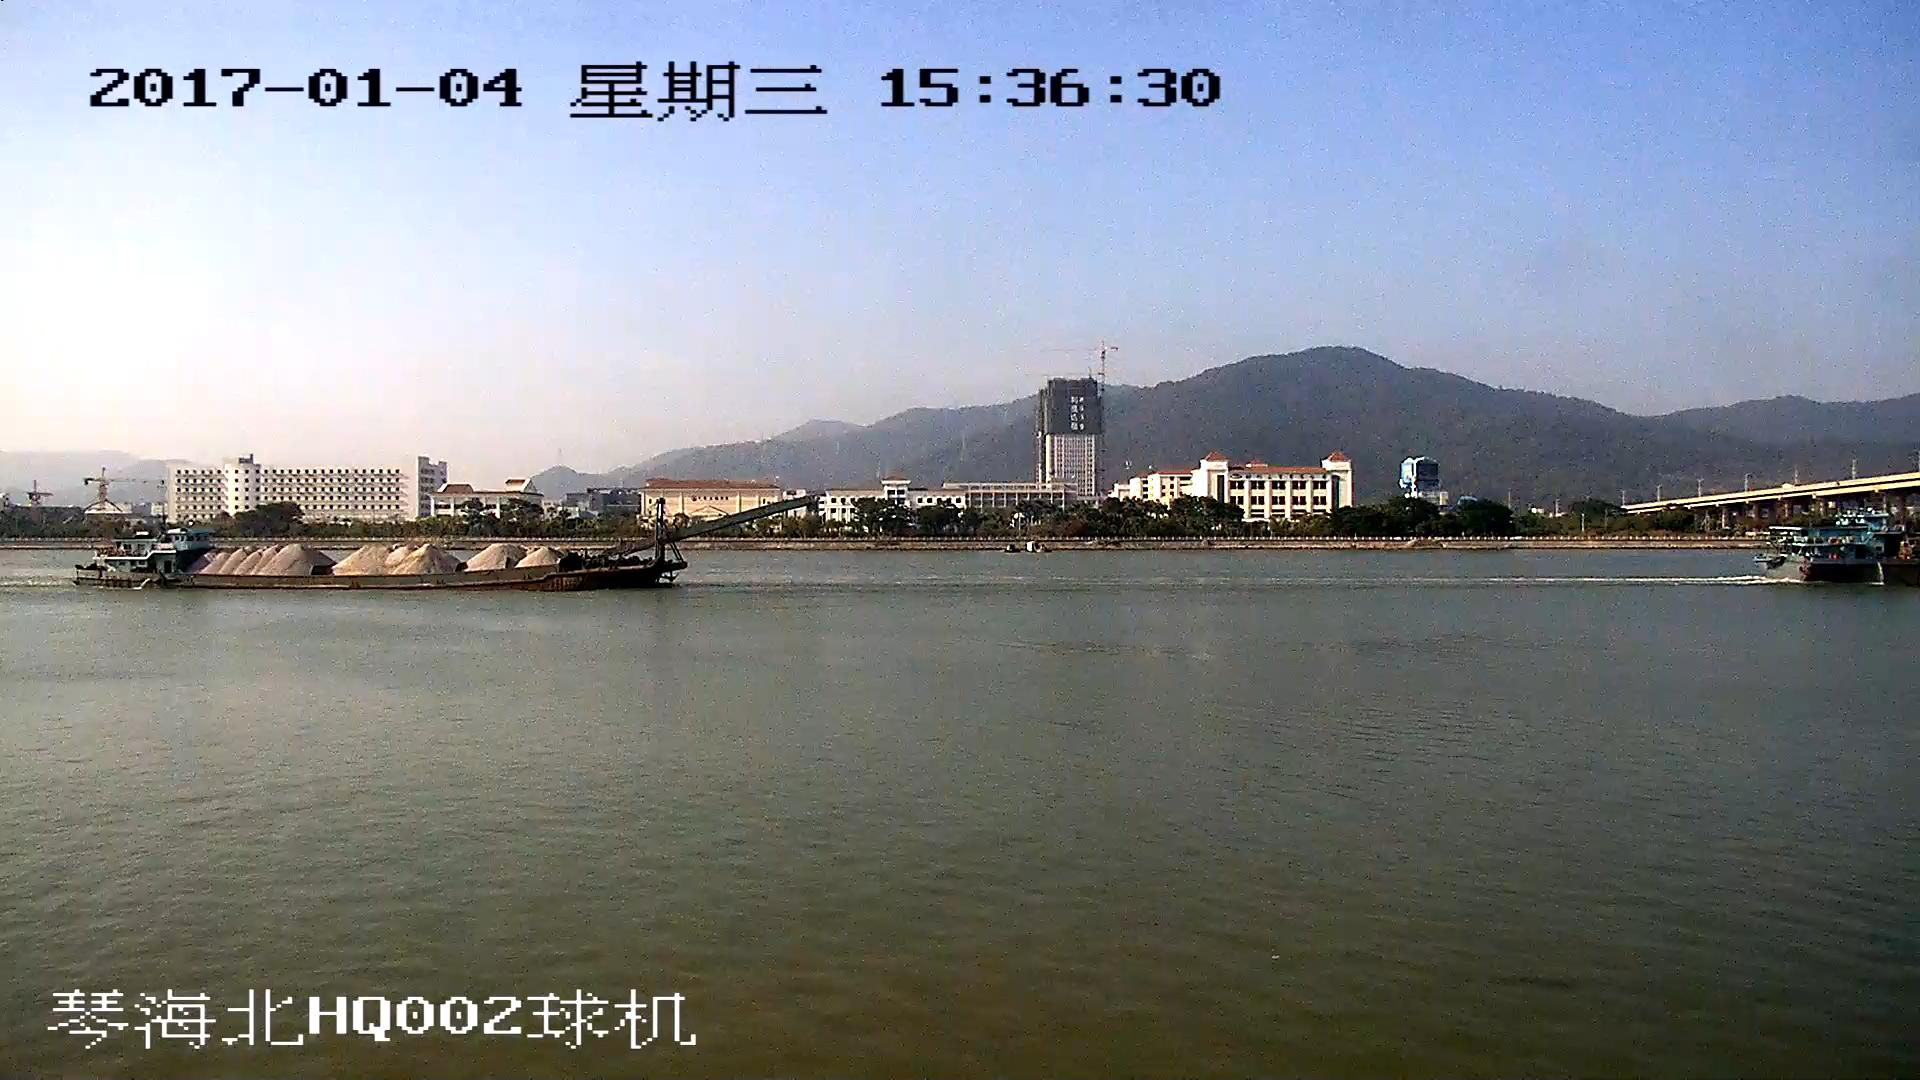ore carrier: (77, 496, 811, 589)
